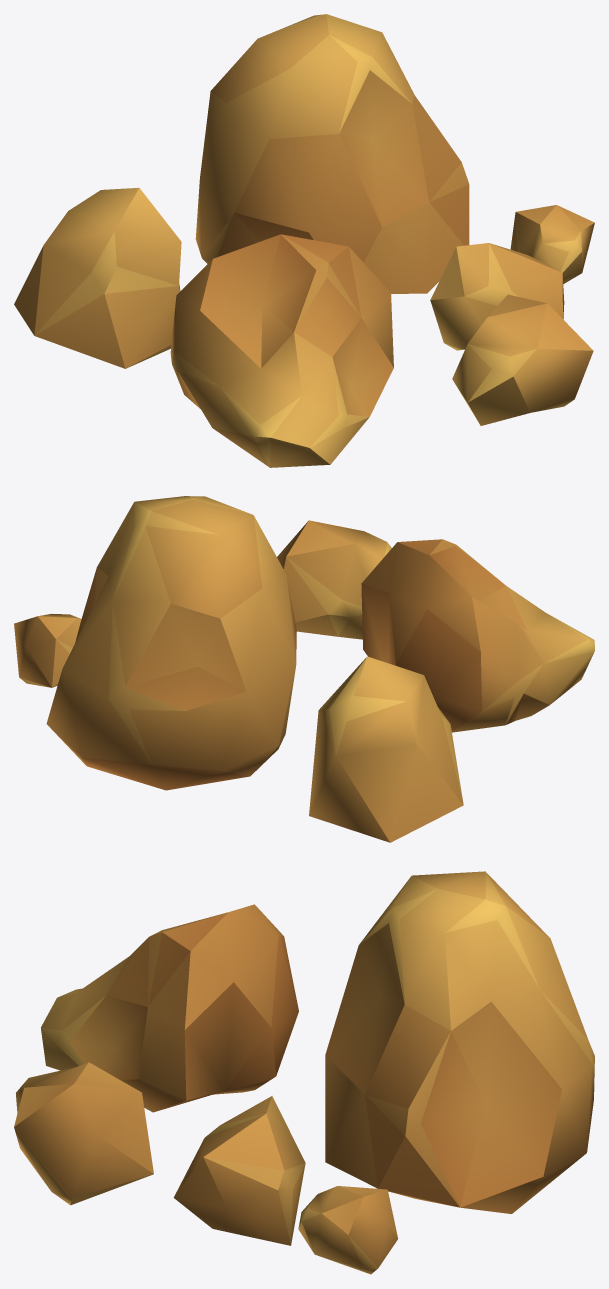
File: gold-nuggets.glb
3 renders of one model, top to bottom at view 1: azimuth 30°, elevation 25°; view 2: azimuth 150°, elevation 25°; view 3: azimuth 270°, elevation 25°, orthographic. The views are drawn at different scales.
Visible parts, largest first — view 1: Gold_Nuggets; view 2: Gold_Nuggets; view 3: Gold_Nuggets.
Boxes of the visible parts, bbox=[...] form: Gold_Nuggets: bbox=[14, 14, 594, 467]; Gold_Nuggets: bbox=[14, 496, 594, 842]; Gold_Nuggets: bbox=[14, 871, 594, 1274].
Bounding box in the file's own units: 0.9288 × 0.4749 × 0.8501.
Materials: 1 (1 with a texture image).
